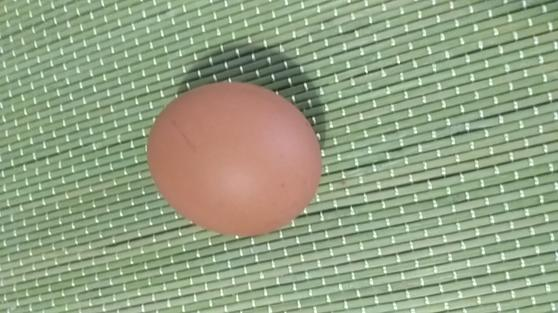egg: (146, 80, 323, 238)
